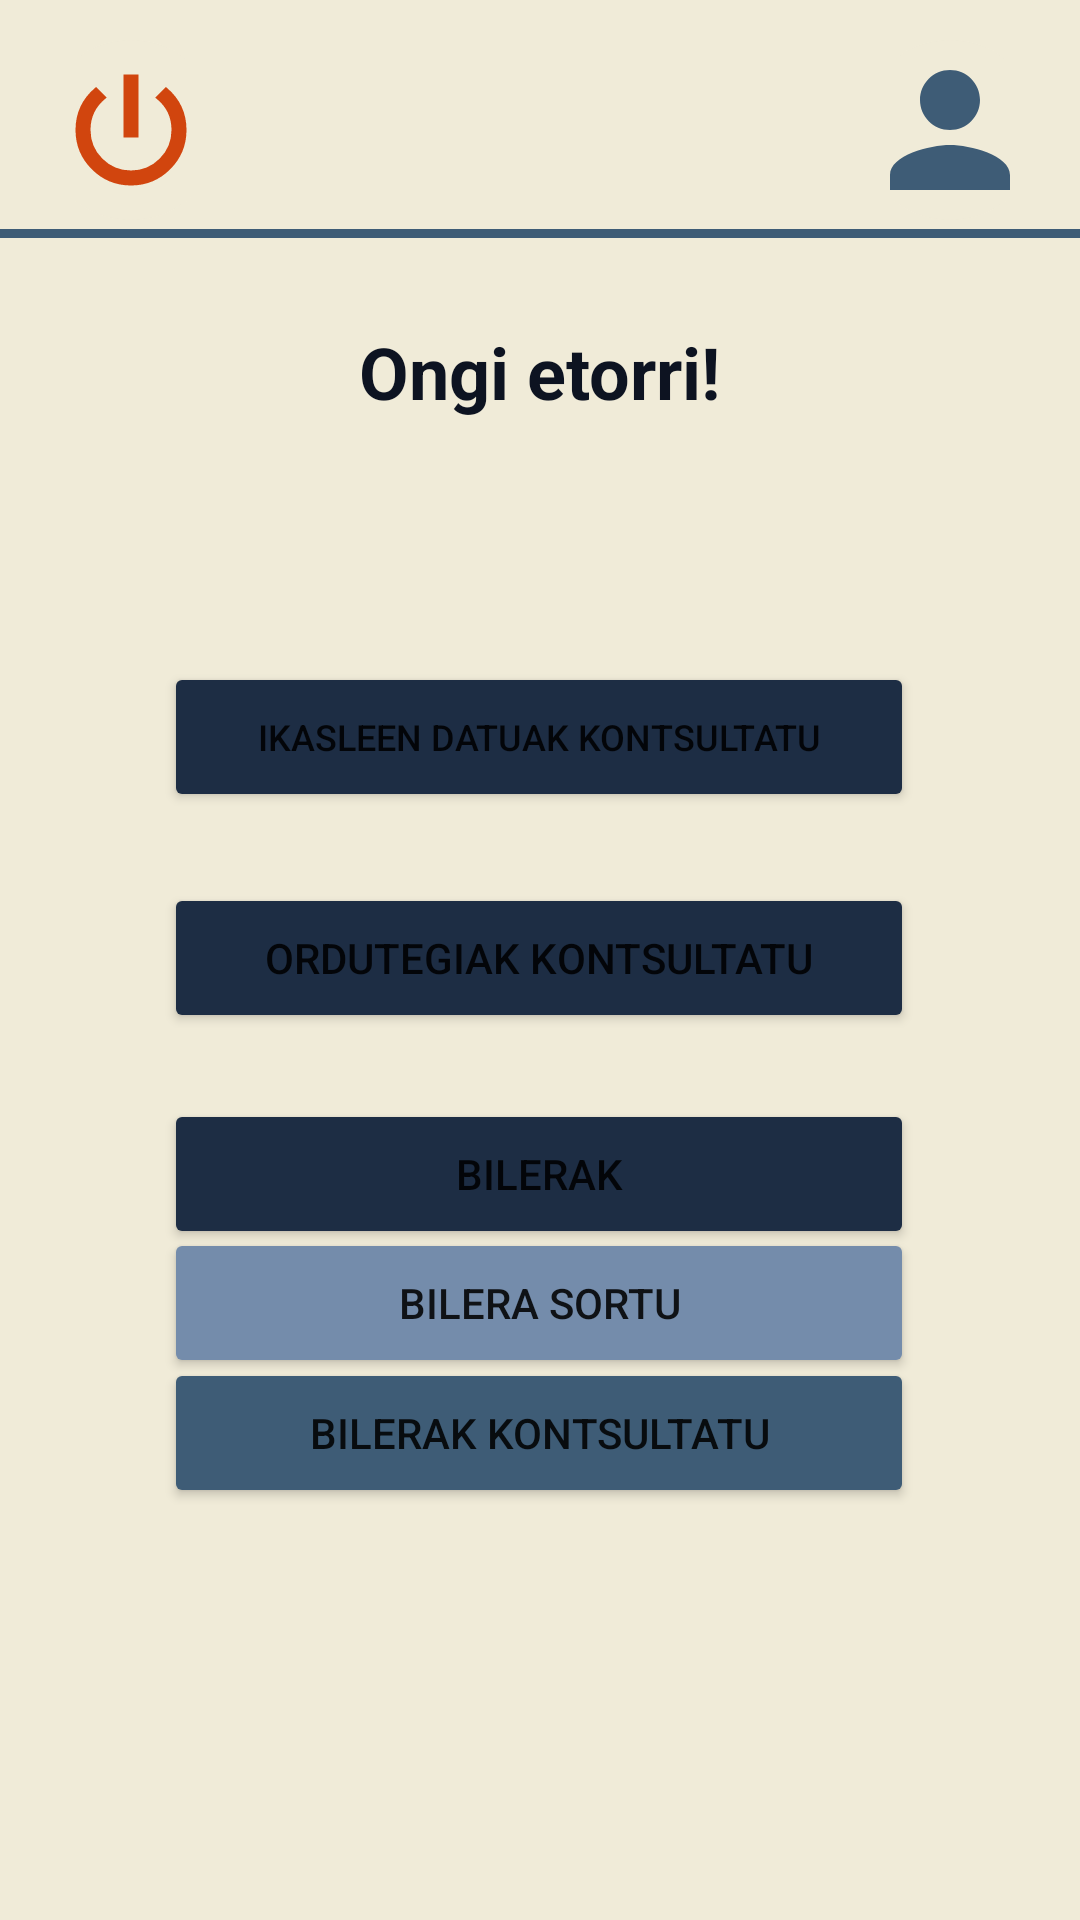

Screen size 1080px×1920px. Icon name, then its center in pixels as [x,y]:
Deskonektatzeko botoia: [131,130]
Erabiltzaile-profilaren botoia: [950,130]
